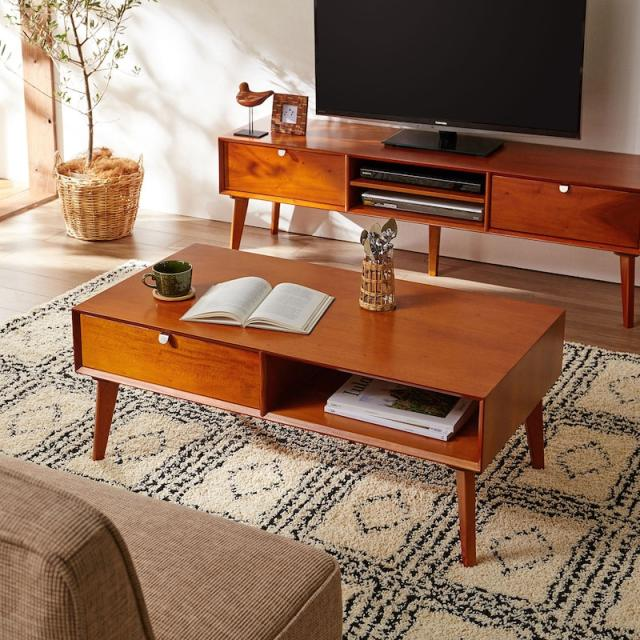vintage desk: (68, 240, 570, 486)
vintage shelf: (210, 104, 640, 260)
